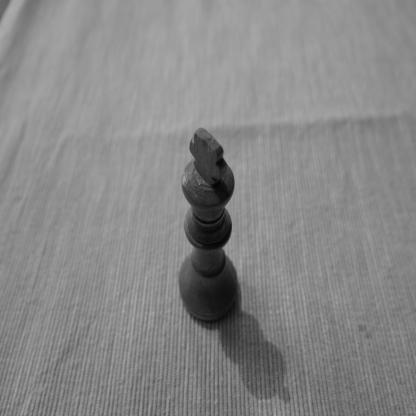white-king: (178, 126, 239, 326)
